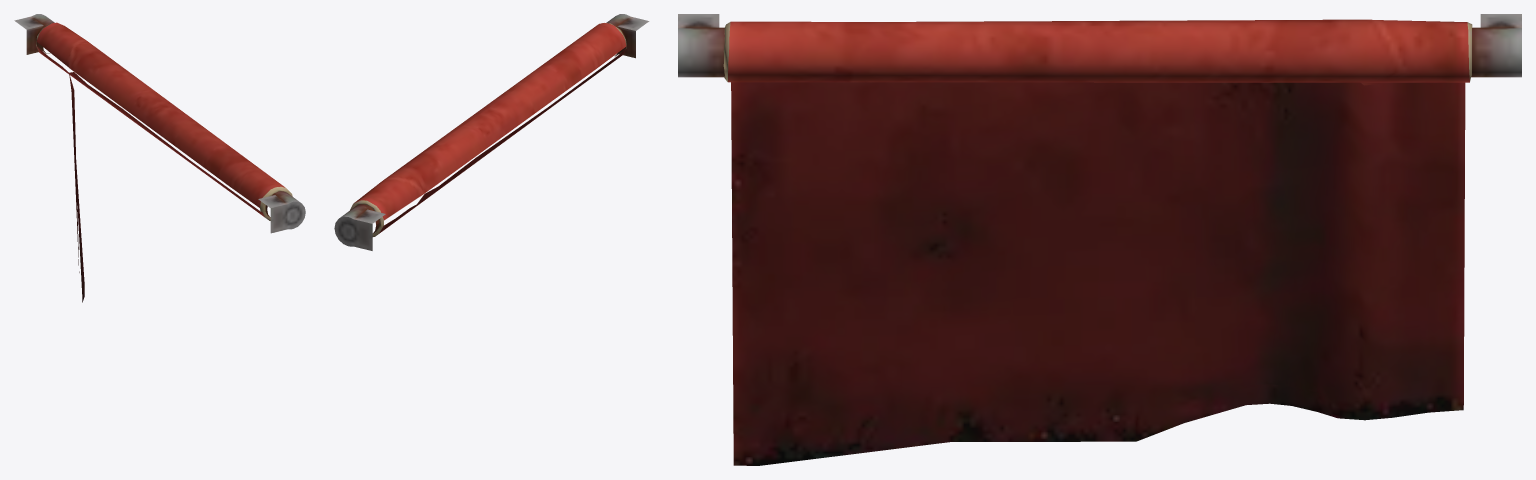
File: windowblindb.glb
The picture shows the model from 3 angles, left to right: view 1: azimuth 30°, elevation 25°; view 2: azimuth 150°, elevation 25°; view 3: azimuth 270°, elevation 25°; orthographic projection. The views are drawn at different scales.
Visible parts, largest first — view 1: WindowBlindb_LOD0; view 2: WindowBlindb_LOD0; view 3: WindowBlindb_LOD0.
Part boxes in pixels (bbox=[...]): WindowBlindb_LOD0: bbox=[14, 14, 305, 302]; WindowBlindb_LOD0: bbox=[334, 14, 649, 250]; WindowBlindb_LOD0: bbox=[678, 14, 1521, 465].
Size of the model in its own units: 0.0698 by 0.4232 by 0.7106.
Materials: 1 (1 with a texture image).
